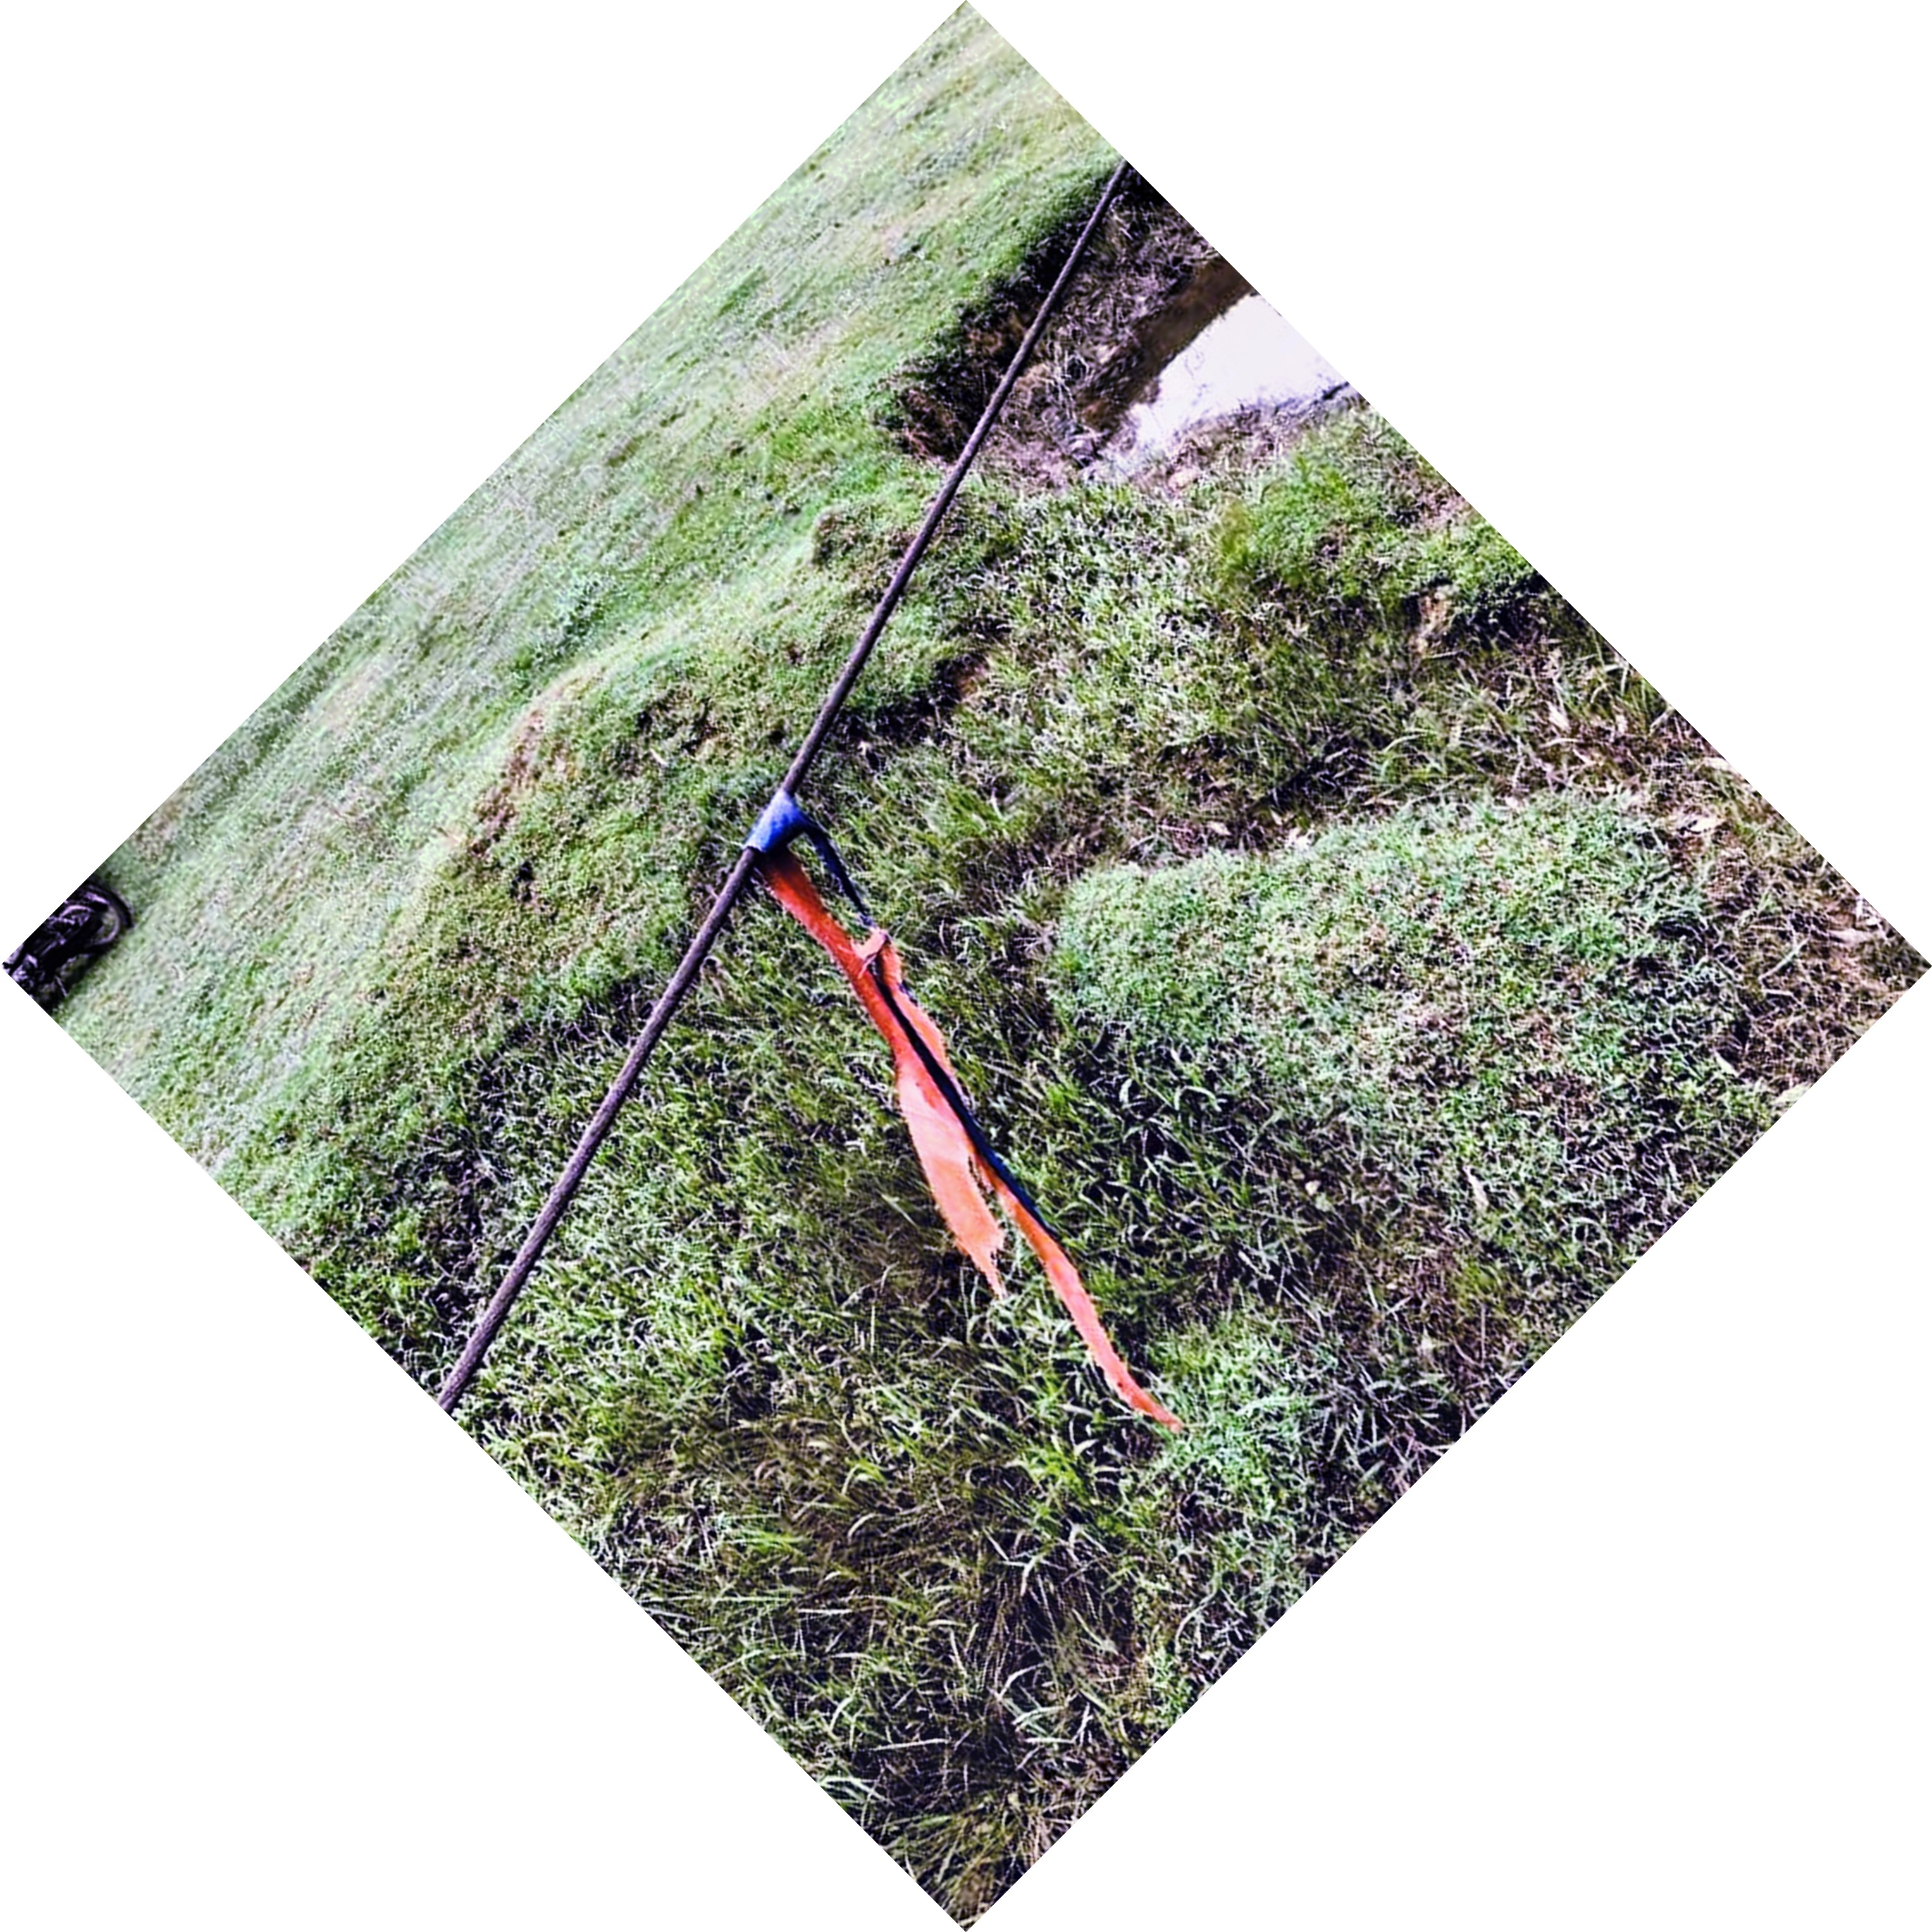wire foreign body: (704, 747, 1178, 1428)
